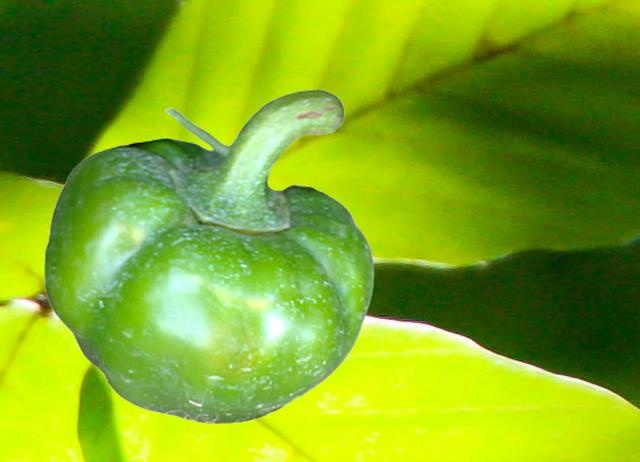bell_pepper: (44, 88, 373, 423)
